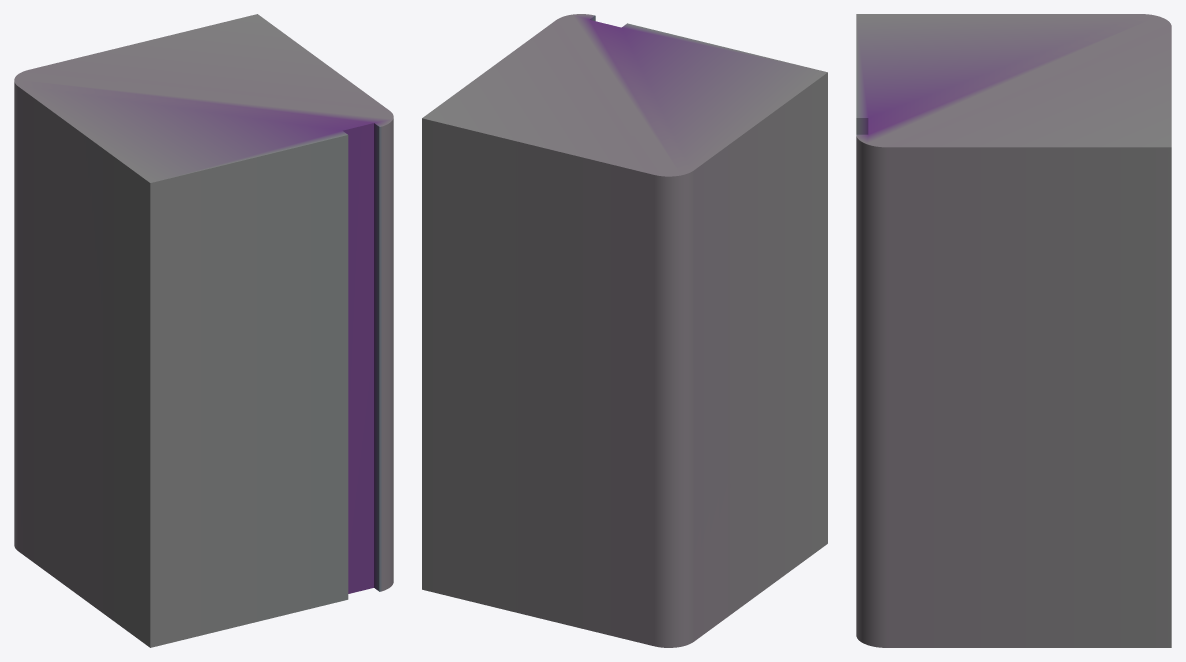
3 views of the same model, side by side, from view 1: azimuth 30°, elevation 25°; view 2: azimuth 150°, elevation 25°; view 3: azimuth 270°, elevation 25° (orthographic). The views are drawn at different scales.
Parts seen in each view (by area): view 1: block_body; view 2: block_body; view 3: block_body.
Boxes of the visible parts, x1,y1,x2,y2 form: block_body: (14, 14, 393, 647); block_body: (422, 14, 827, 647); block_body: (856, 14, 1171, 647).
Bounding box in the file's own units: 0.2571 × 0.45 × 0.2571.
